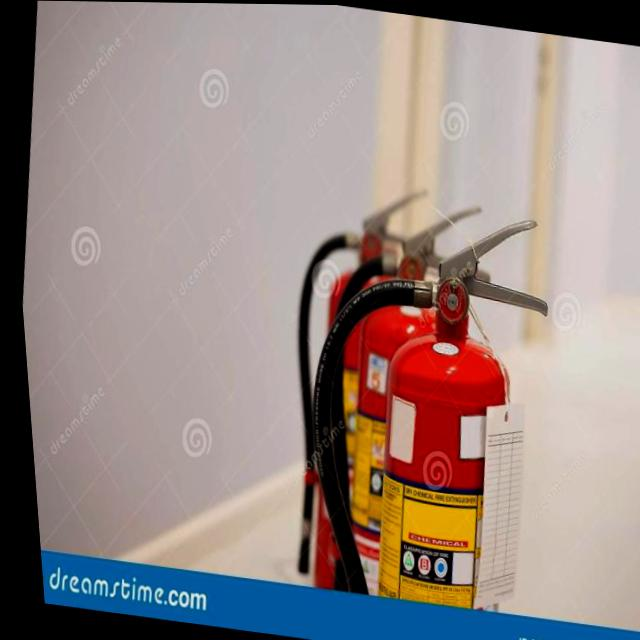FireExtinguisher: (268, 185, 575, 618), (282, 181, 518, 610), (248, 166, 469, 596)
